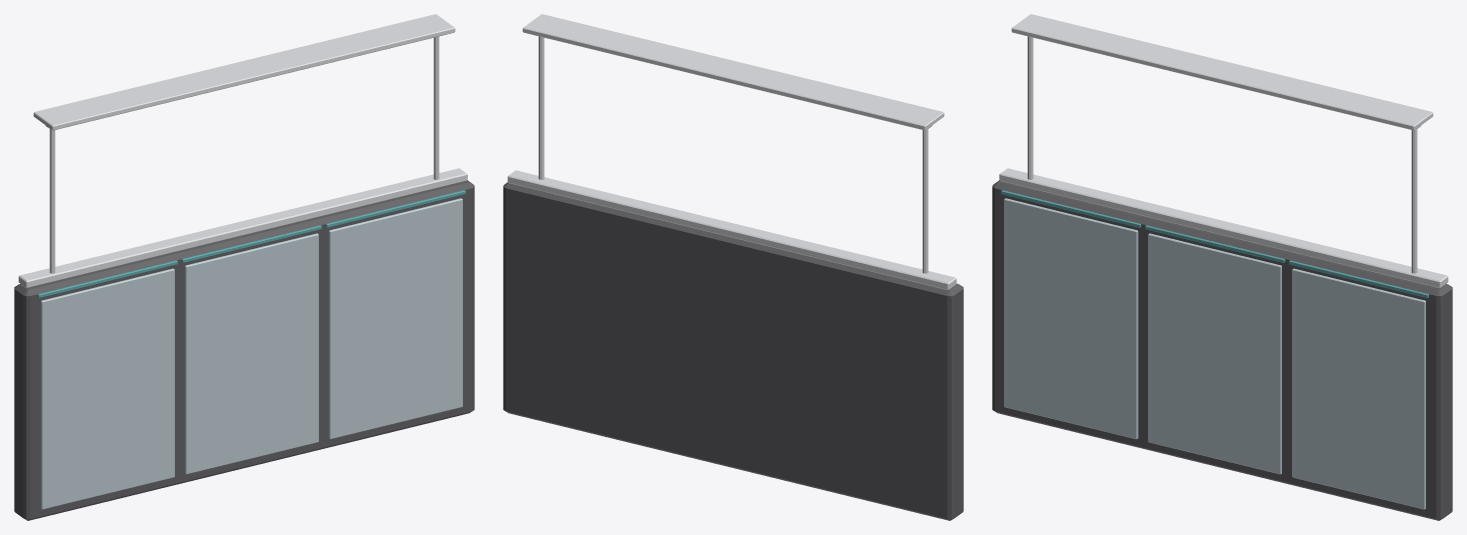
The model's file is fast-food-and-drive-thru-menu-board-triple-cf30b62a__16124.glb.
3 views of the same model, side by side, from view 1: azimuth 30°, elevation 25°; view 2: azimuth 150°, elevation 25°; view 3: azimuth 330°, elevation 25° (orthographic).
Visible parts, largest first — view 1: menu-board-triple; view 2: menu-board-triple; view 3: menu-board-triple.
Part boxes in pixels (box(x1,y1,x2,y2)): menu-board-triple: box(14, 14, 474, 520); menu-board-triple: box(503, 14, 963, 520); menu-board-triple: box(992, 14, 1452, 520).
Bounding box in the file's own units: 1.88 × 1.57 × 0.1399.
